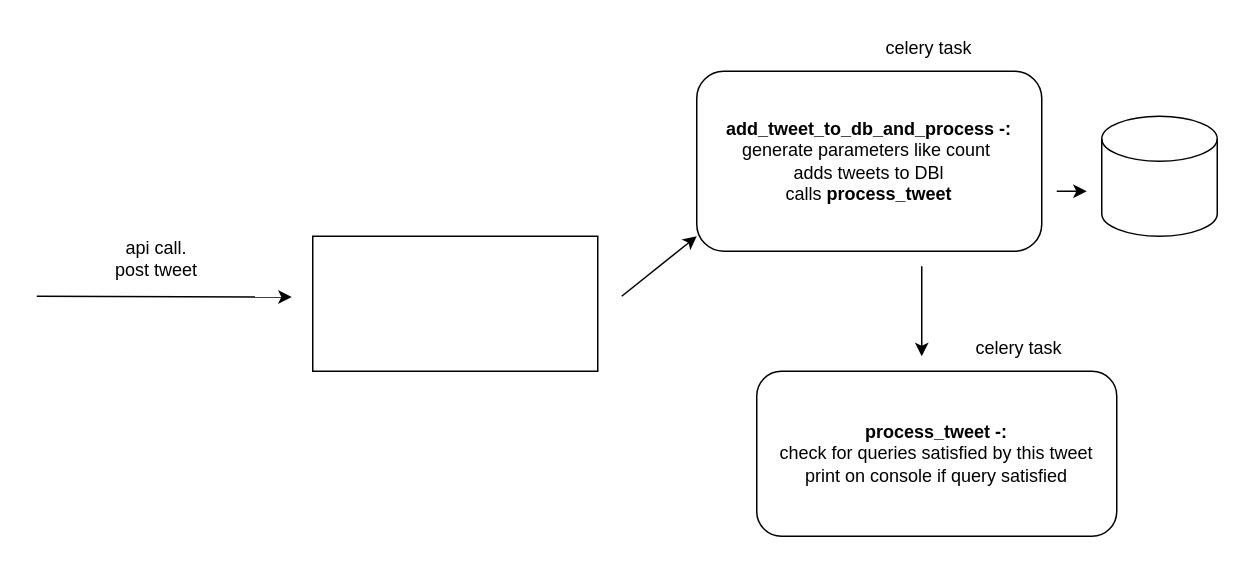
This 1244x563 diagram has some shape labels left out. The shapes that lost their labels are listed below. From the top down, each one's centre as x and y in pixels, then its label:
At (x=1158, y=175): "SimpleDB for tweets".
At (x=454, y=303): "Flask app".
